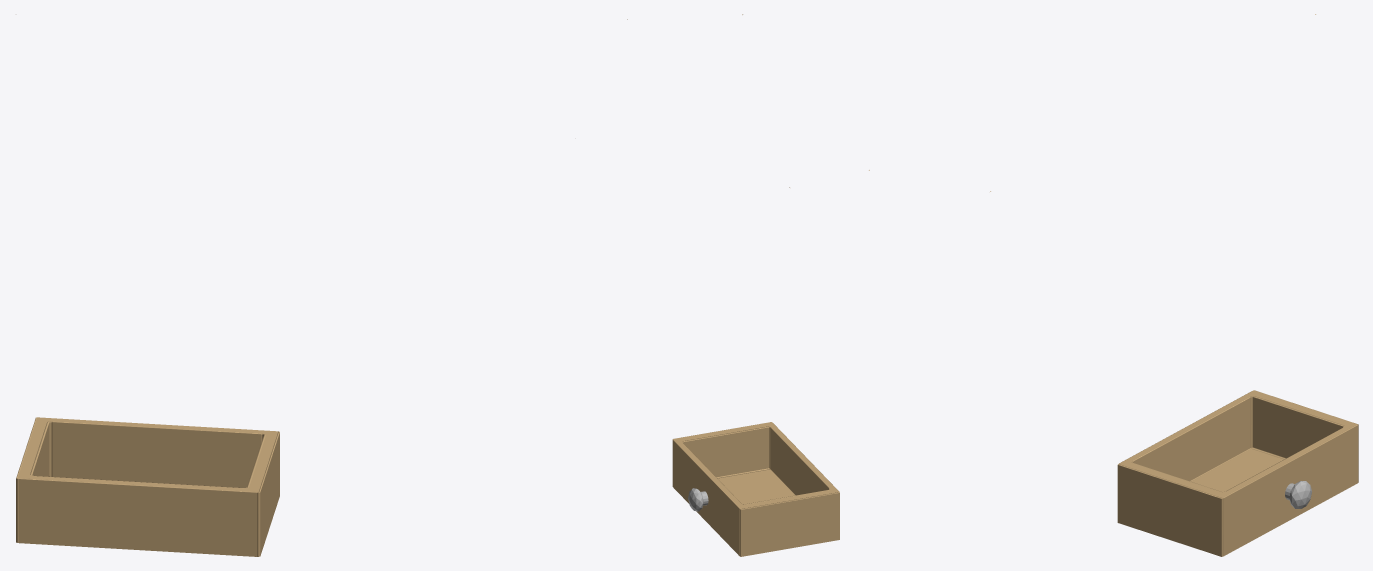
The model's file is drawer1.glb.
The picture shows the model from 3 angles, left to right: view 1: azimuth 30°, elevation 25°; view 2: azimuth 150°, elevation 25°; view 3: azimuth 270°, elevation 25°; orthographic projection. The views are drawn at different scales.
Visible parts, largest first — view 1: tiroire.1; view 2: tiroire.1; view 3: tiroire.1.
Part boxes in pixels (x1,y1,x2,y2): tiroire.1: [16, 417, 279, 556]; tiroire.1: [627, 14, 839, 556]; tiroire.1: [869, 14, 1358, 556].
Bounding box in the file's own units: 0.1805 × 0.1963 × 0.194.
